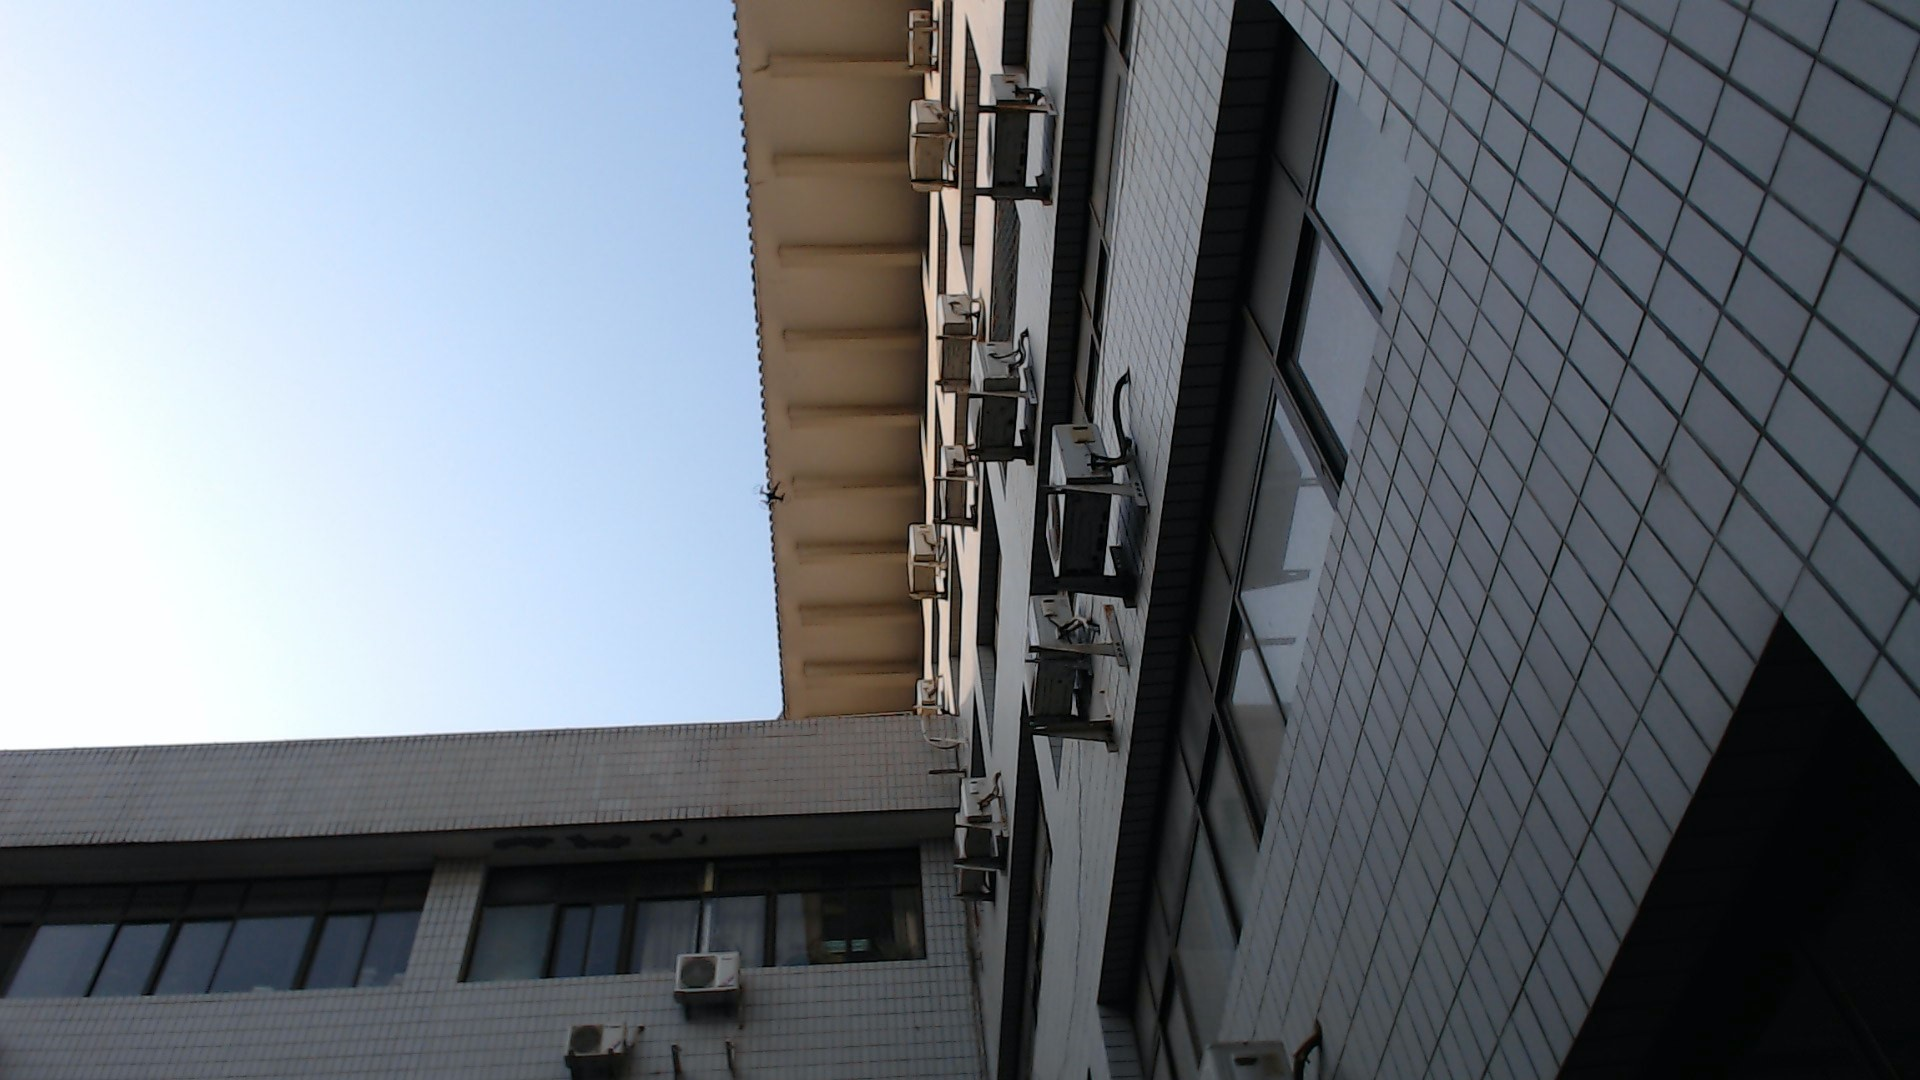drone: (748, 475, 796, 514)
